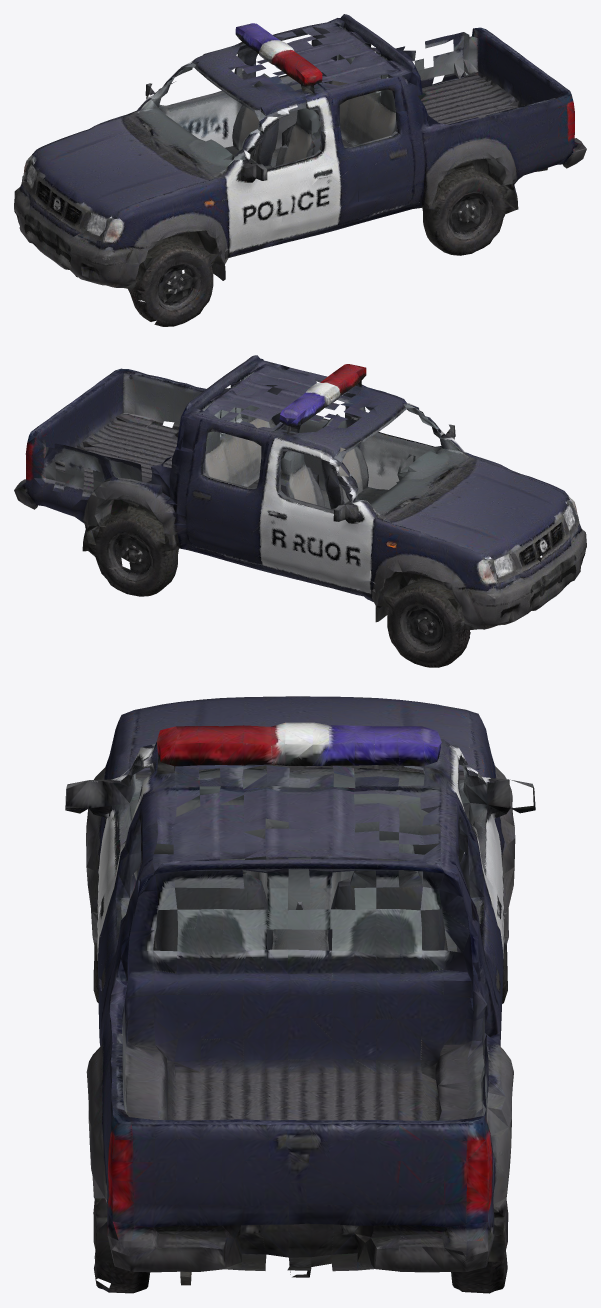
Rendered from police_pickup.glb.
3 renders of one model, top to bottom at view 1: azimuth 30°, elevation 25°; view 2: azimuth 150°, elevation 25°; view 3: azimuth 270°, elevation 25°, orthographic. The views are drawn at different scales.
Bounding box in the file's own units: 0.9774 × 0.3944 × 0.4004.
Materials: 1 (1 with a texture image).
